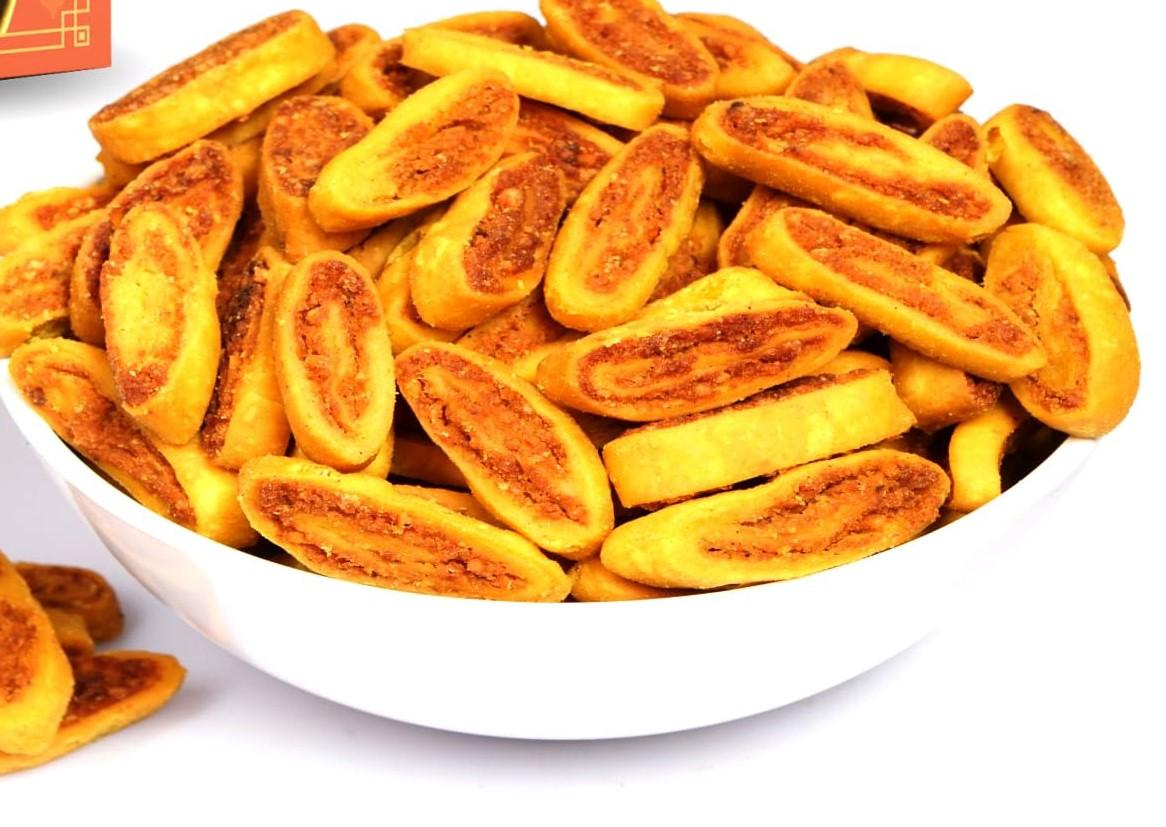bhakarwadi: (8, 79, 1166, 580)
